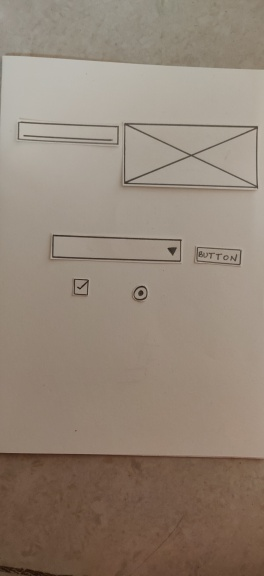button: (191, 245, 246, 269)
checkbox: (70, 271, 94, 297)
dropdown: (40, 229, 183, 265)
img: (125, 122, 260, 191)
radio: (126, 279, 156, 304)
text: (19, 122, 119, 147)
